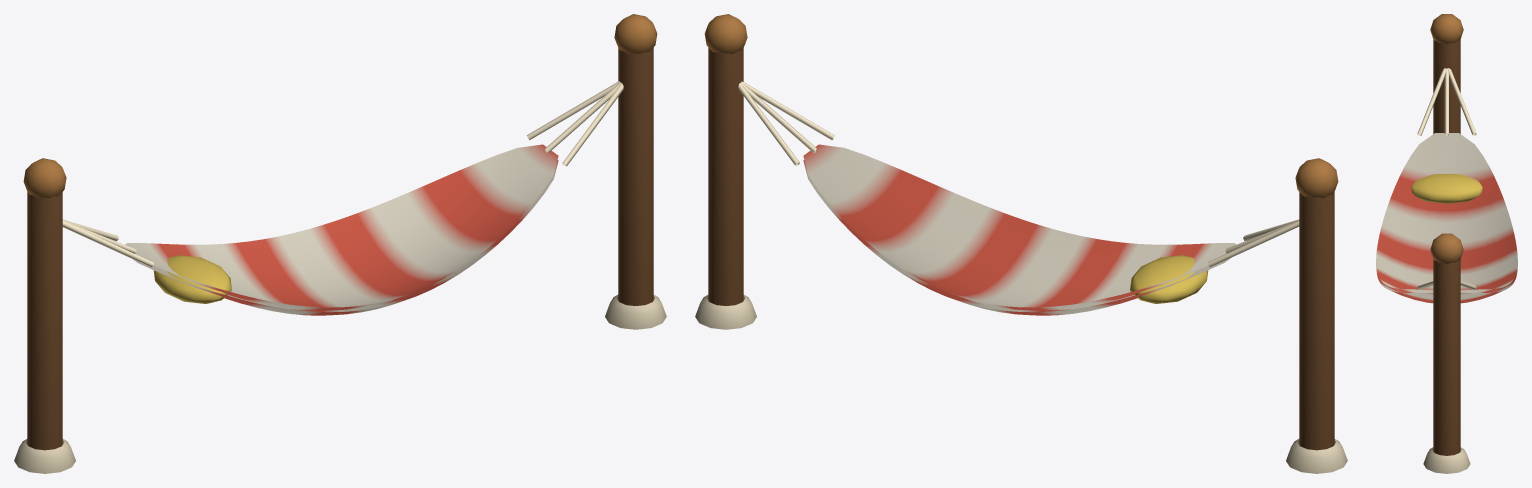
Rendered from hammock.glb.
3 views of the same model, side by side, from view 1: azimuth 30°, elevation 25°; view 2: azimuth 150°, elevation 25°; view 3: azimuth 270°, elevation 25° (orthographic). The views are drawn at different scales.
Visible parts, largest first — view 1: hammock_cloth, hammock_main; view 2: hammock_cloth, hammock_main; view 3: hammock_cloth, hammock_main.
Boxes of the visible parts, x1,y1,x2,y2 form: hammock_cloth: (125,144,558,315); hammock_main: (14,14,666,473); hammock_cloth: (803,144,1236,315); hammock_main: (695,14,1347,473); hammock_cloth: (1376,133,1517,303); hammock_main: (1417,14,1476,473).
Size of the model in its own units: 2.88 by 1.29 by 0.72.
